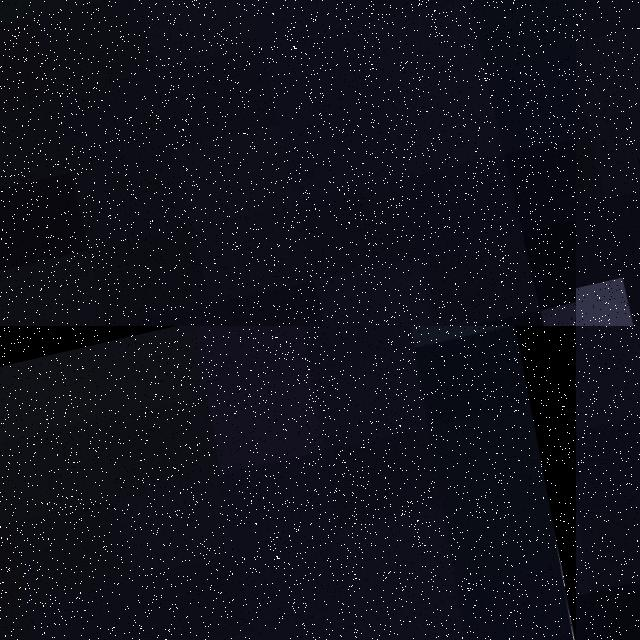drone: (0, 326, 576, 640), (576, 326, 640, 640)
